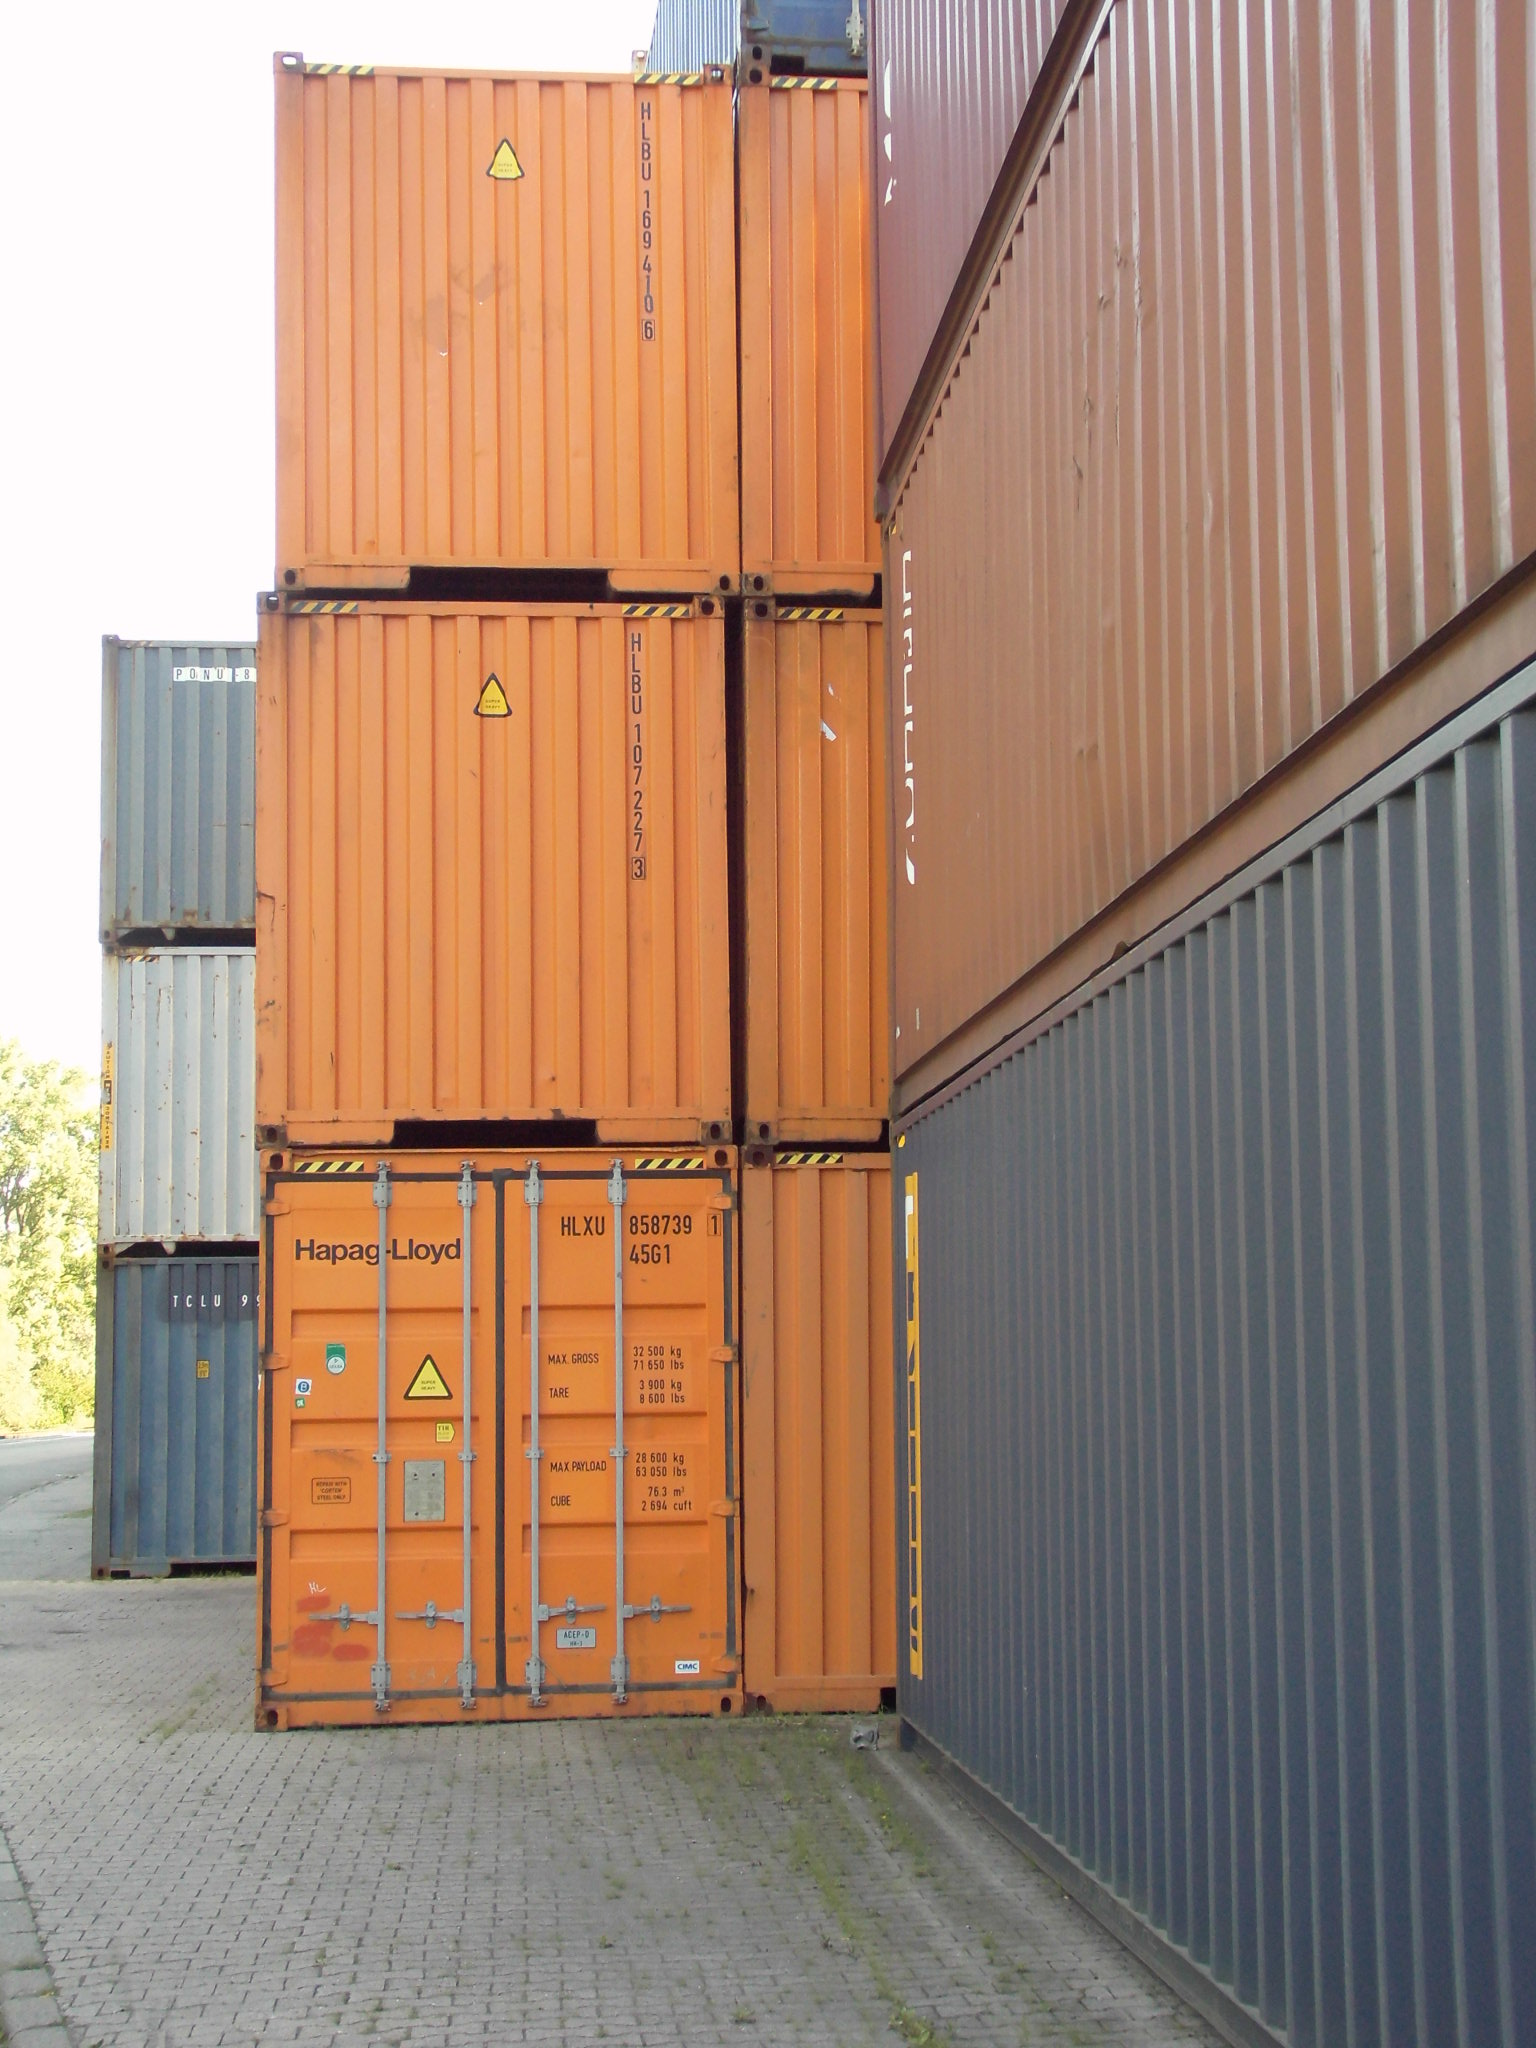container_door: (252, 1151, 745, 1725)
container_no_door: (260, 590, 744, 1150), (281, 56, 724, 593), (94, 1247, 265, 1577), (98, 643, 257, 956), (108, 926, 266, 1238)
